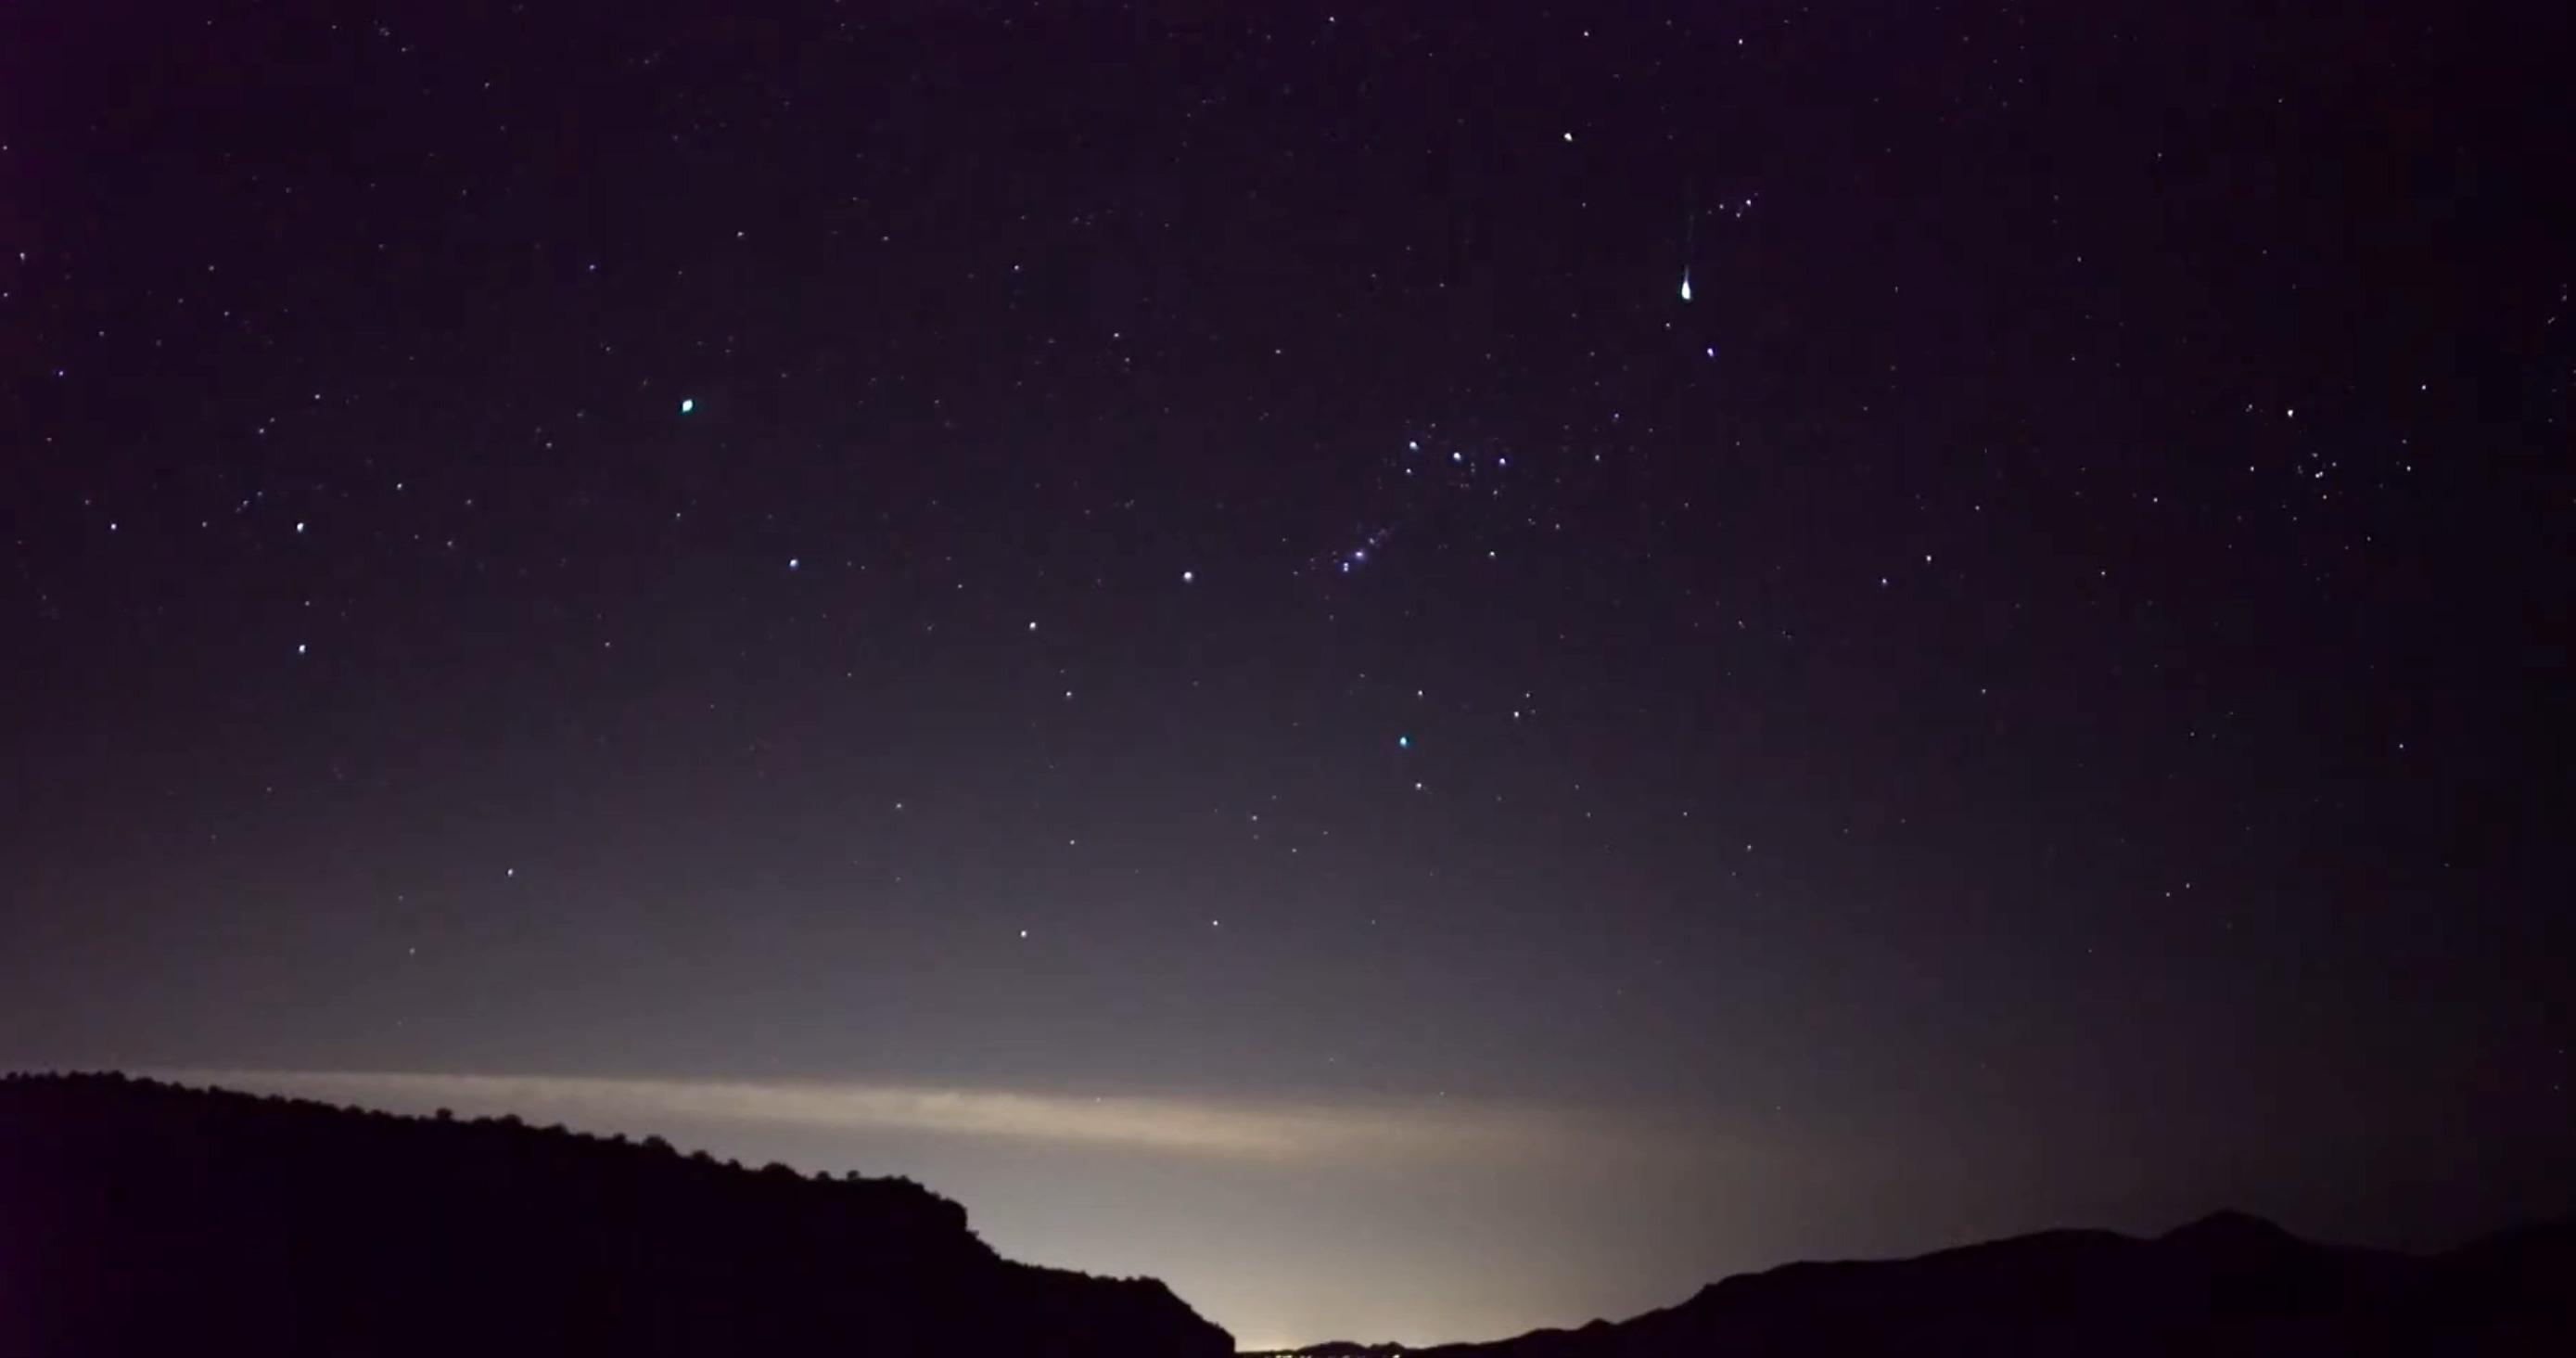meteorite: (1659, 179, 1714, 307)
